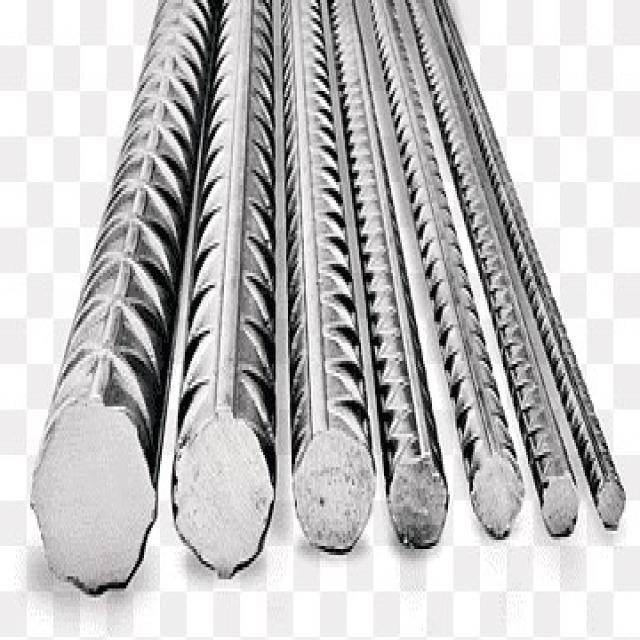Rebar: (32, 406, 152, 597), (172, 409, 270, 589), (295, 418, 379, 564), (392, 450, 449, 560), (469, 447, 523, 546), (547, 476, 577, 546), (603, 474, 627, 528)
